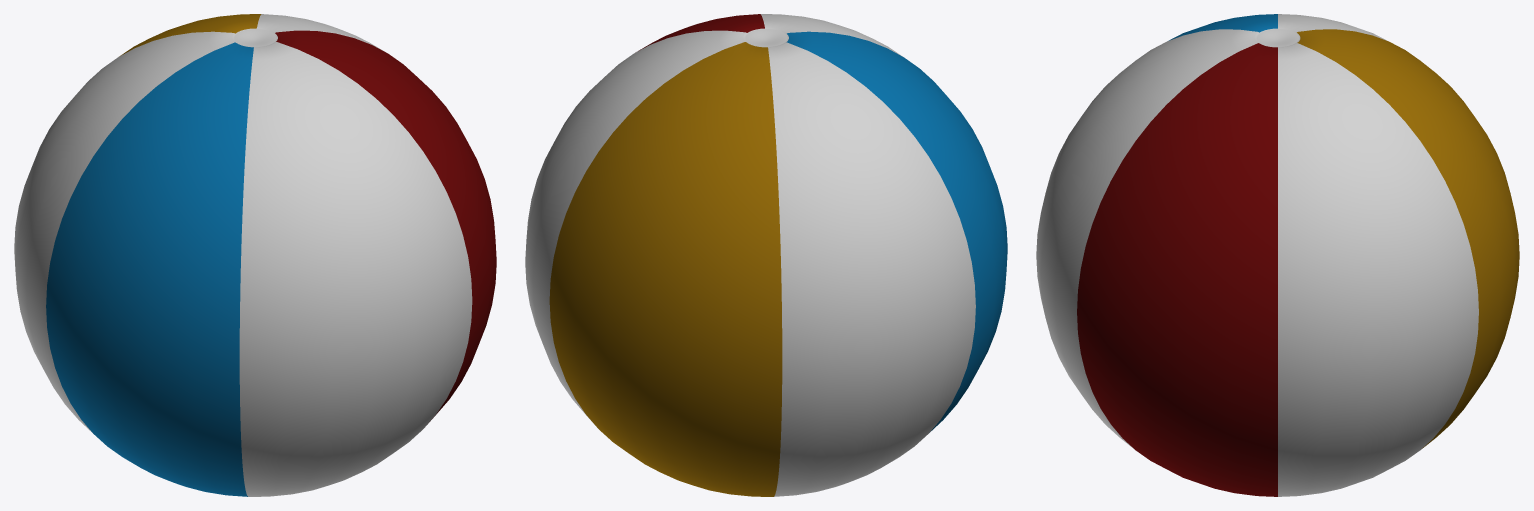
Rendered from beach-ball.obj.
3 views of the same model, side by side, from view 1: azimuth 30°, elevation 25°; view 2: azimuth 150°, elevation 25°; view 3: azimuth 270°, elevation 25° (orthographic).
Visible parts, largest first — view 1: Sphere; view 2: Sphere; view 3: Sphere.
Boxes of the visible parts, x1,y1,x2,y2 form: Sphere: [14, 14, 496, 496]; Sphere: [525, 14, 1007, 496]; Sphere: [1036, 14, 1519, 496].
Bounding box in the file's own units: 2 × 1.99 × 2.
